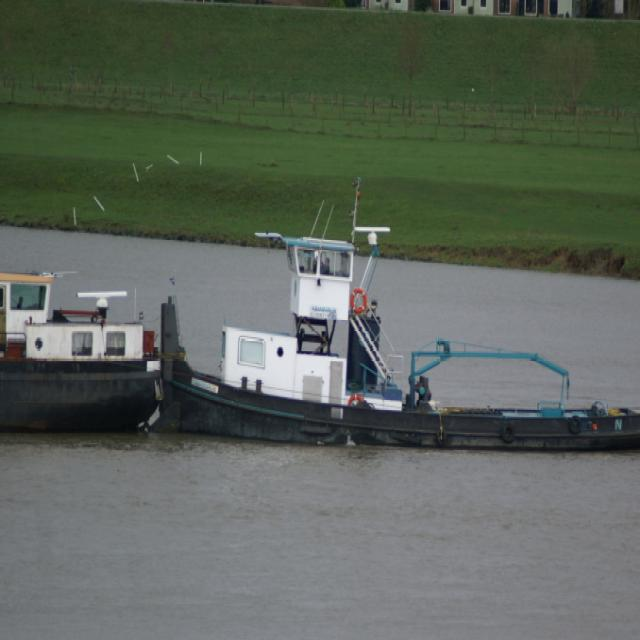tugboat: (157, 219, 640, 471)
